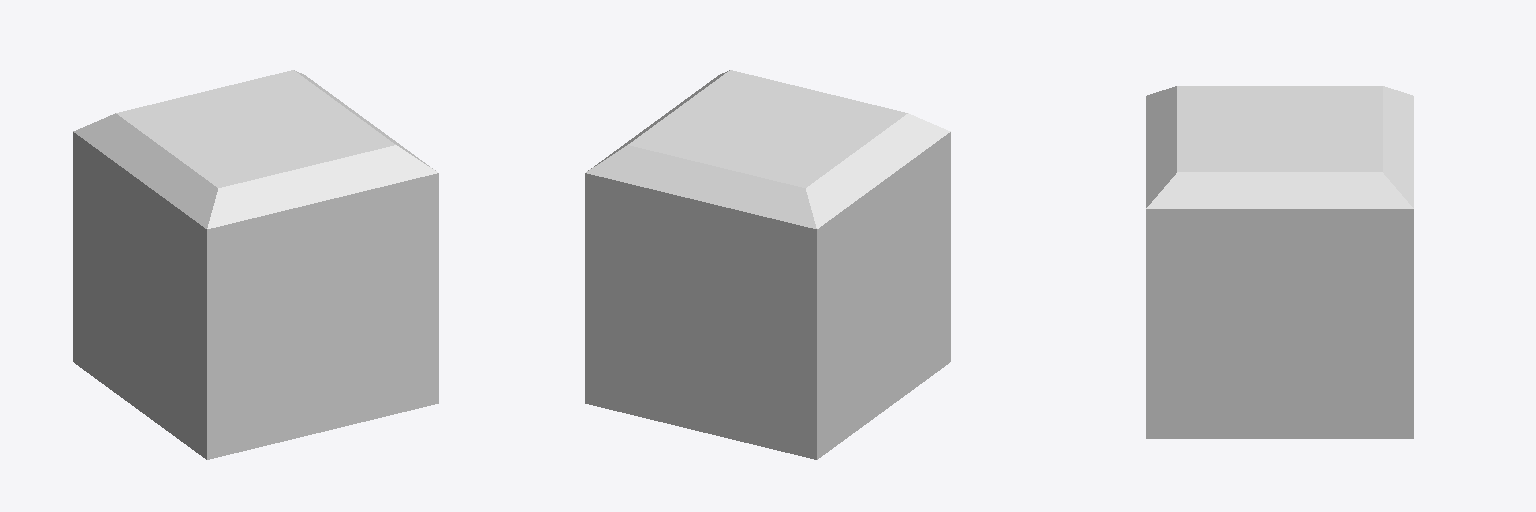
The model's file is Tile_obj.obj.
3 renders of one model, left to right at view 1: azimuth 30°, elevation 25°; view 2: azimuth 150°, elevation 25°; view 3: azimuth 270°, elevation 25°, orthographic.
Visible parts, largest first — view 1: Tile_obj; view 2: Tile_obj; view 3: Tile_obj.
Part boxes in pixels (x1,y1,x2,y2): Tile_obj: (73, 70, 438, 459); Tile_obj: (585, 70, 950, 459); Tile_obj: (1146, 86, 1413, 438).
Bounding box in the file's own units: 1 × 1.05 × 1.